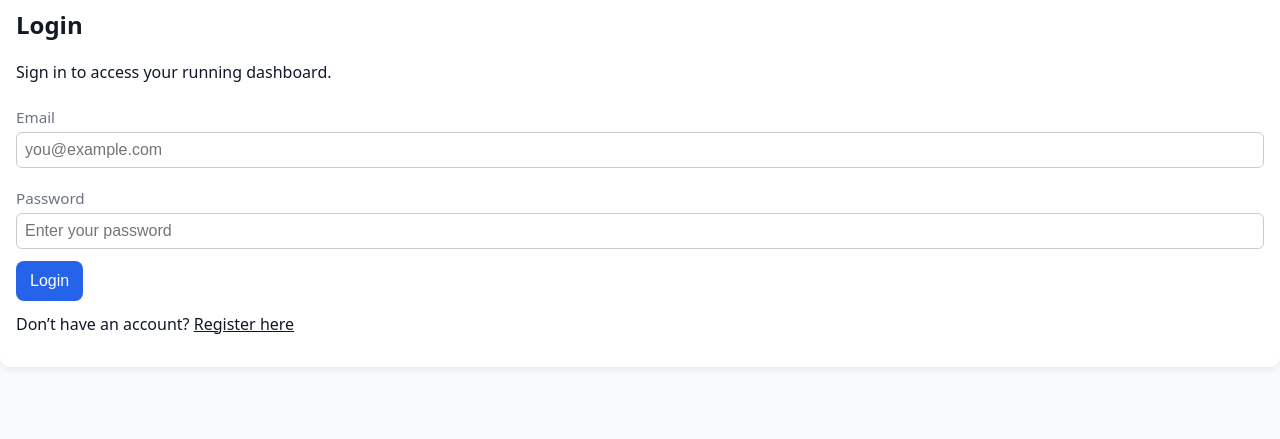
Test: LoginPage › shows error for invalid credentials
Type "test@example.com" into the field labelled "Email" at point(640, 150), box [16,132,1264,168]
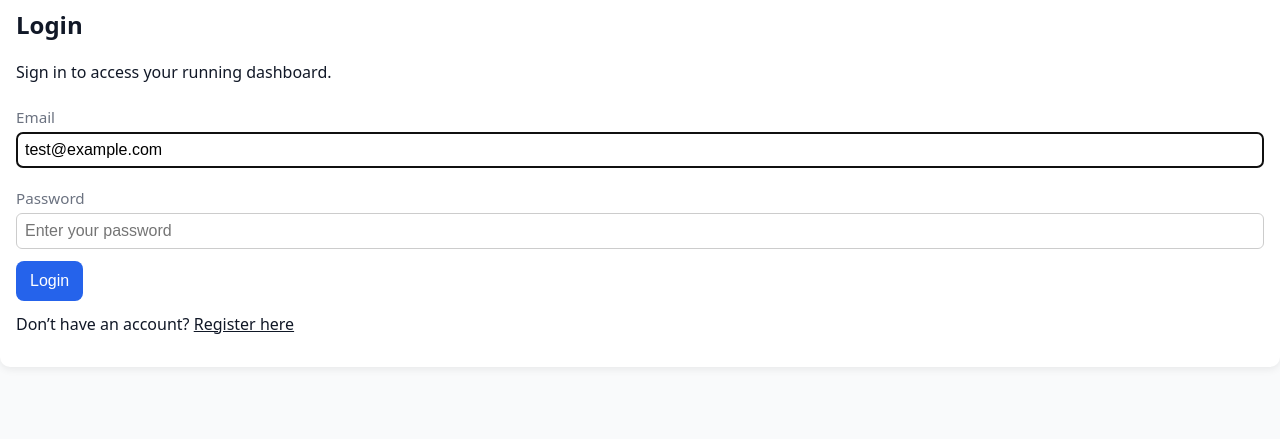
Type "wrongpass" into the password field labelled "Password" at point(640, 231), box [16,213,1264,249]
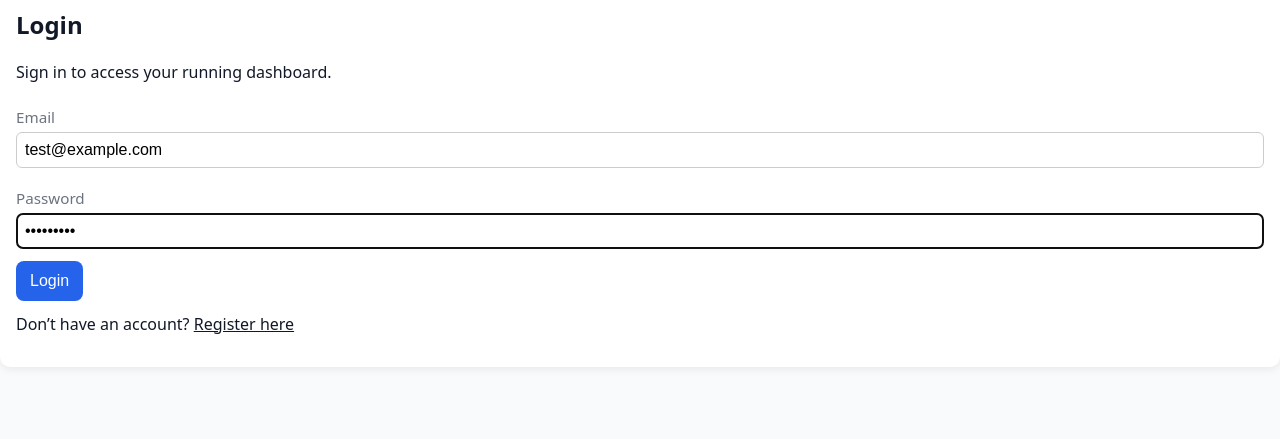
Click the button "Login" at point(50, 281), box [16,261,83,301]
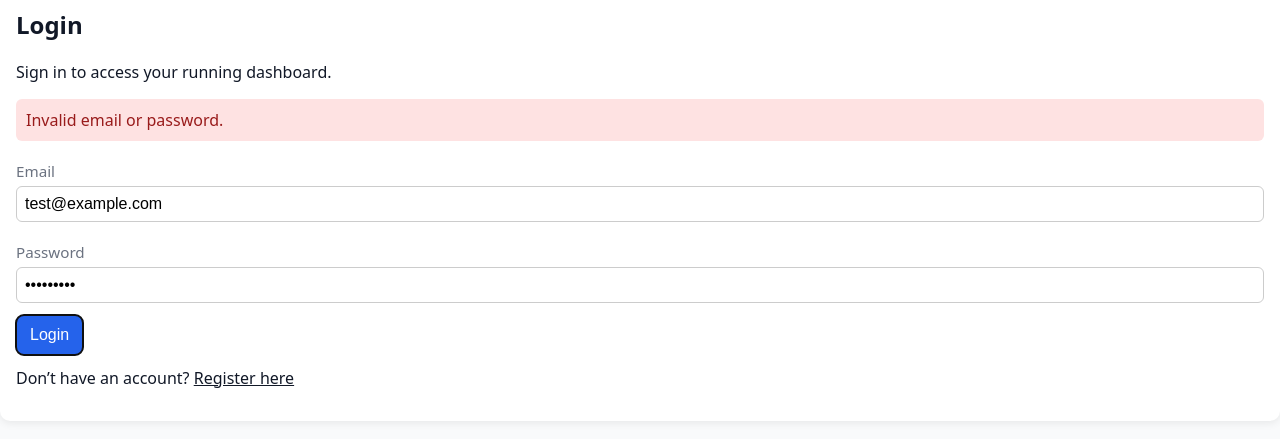
Expected: the text "Invalid email or password." is shown, [16,99,1264,141]
